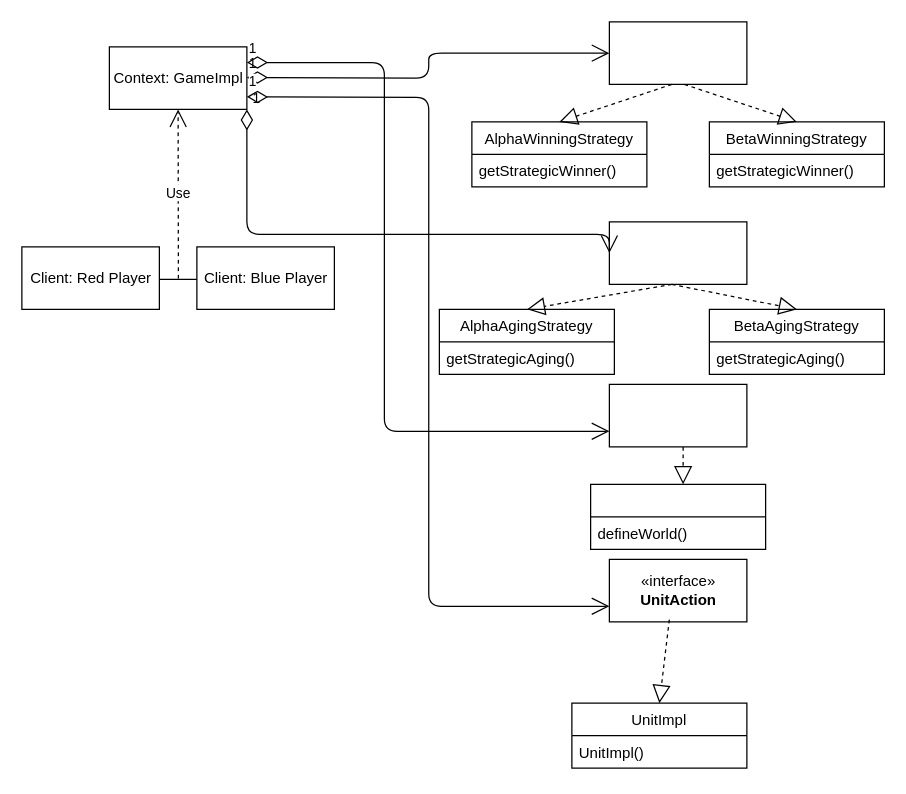
Some shapes in this 906 by 794 pixel diagram are drawn without their labels. The box of each missing label's shape, as (x1, y1, x2, y2) in pixels:
DeltaMapStrategy: (589, 483, 766, 549)
«interface» AgingStrategy: (608, 221, 747, 284)
«interface» MapStrategy: (608, 383, 747, 447)
«interface» WinningStrategy: (608, 21, 747, 84)
